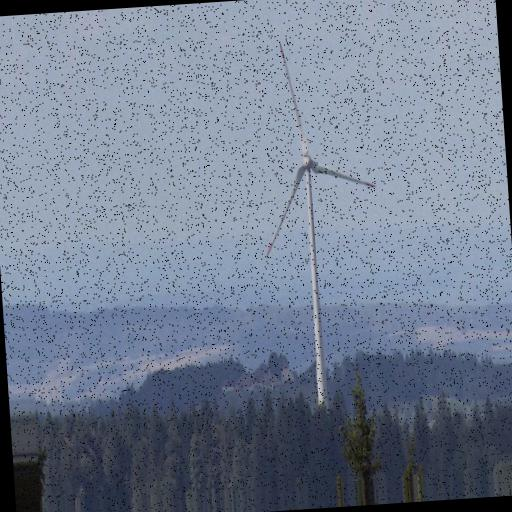wind turbine: (265, 40, 379, 405)
